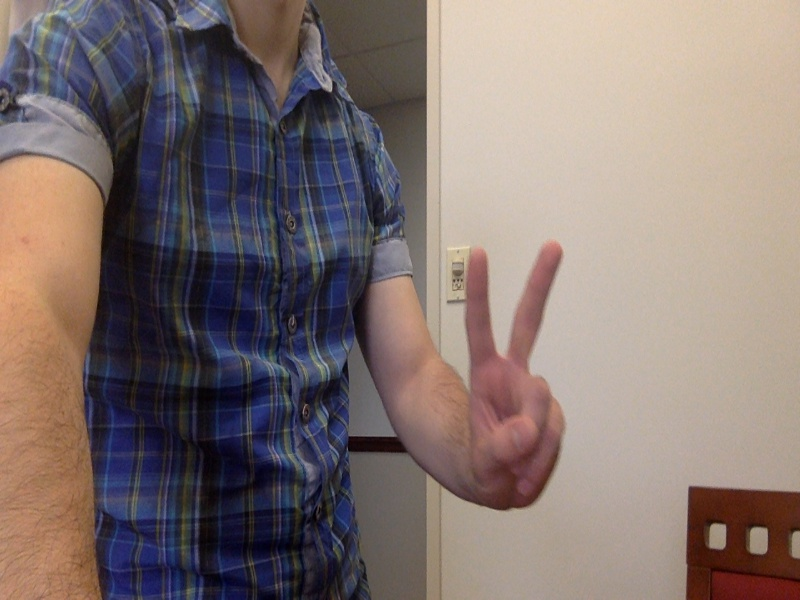2-hand: (461, 243, 582, 510)
